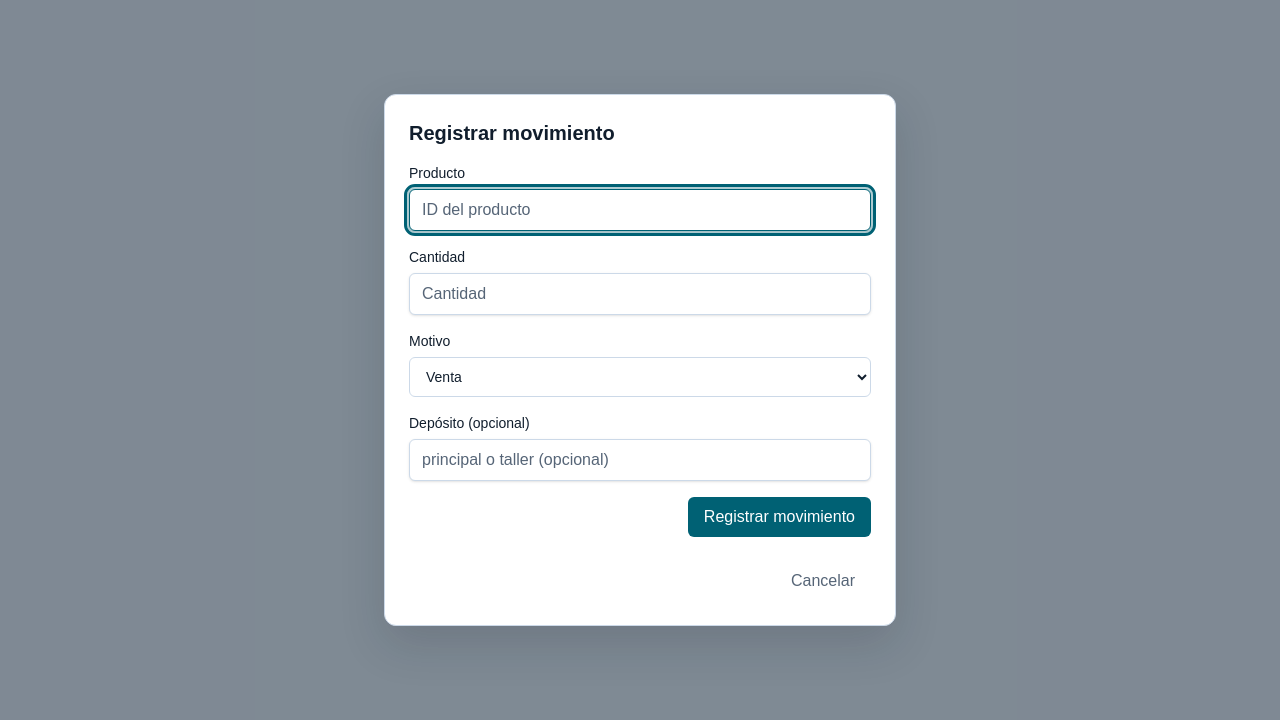
Test: StockMovementModal › validates cantidad with the domain schema before posting
Type "p_1" into the field labelled "Producto" at (640, 210), box [409,189,871,231]
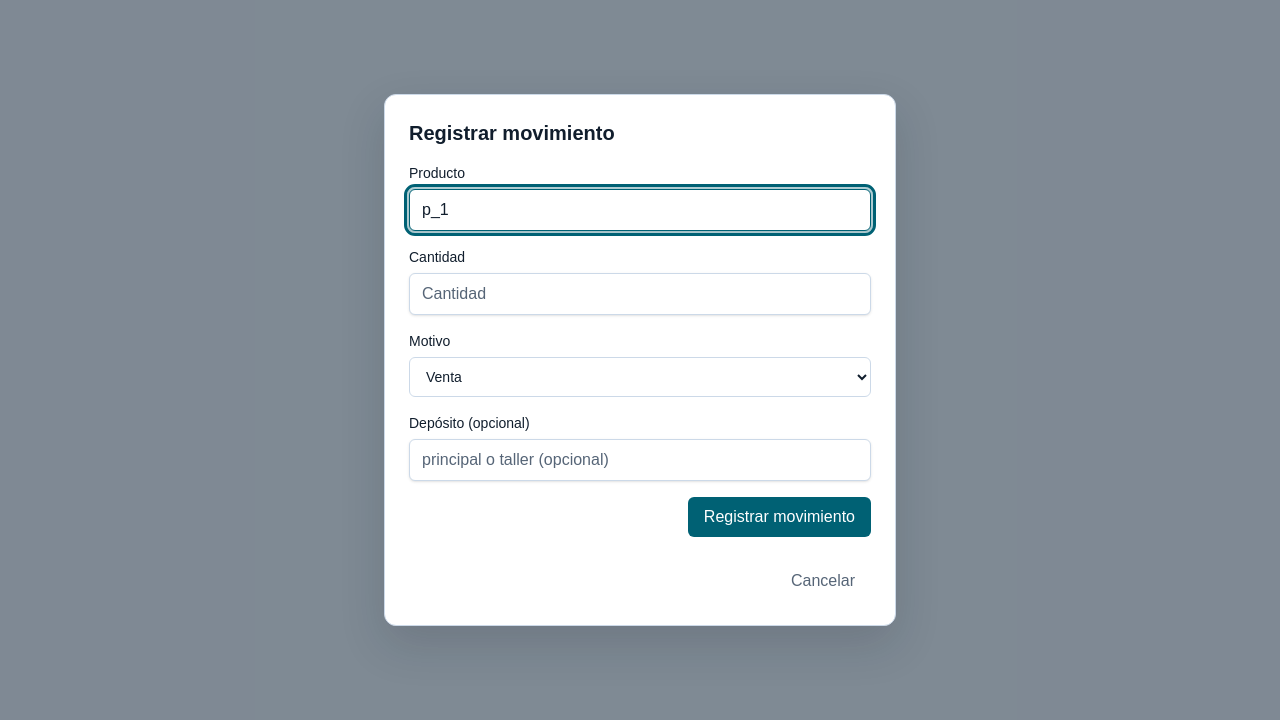
Click the button "Registrar movimiento" at (779, 517), box [688,497,871,537]
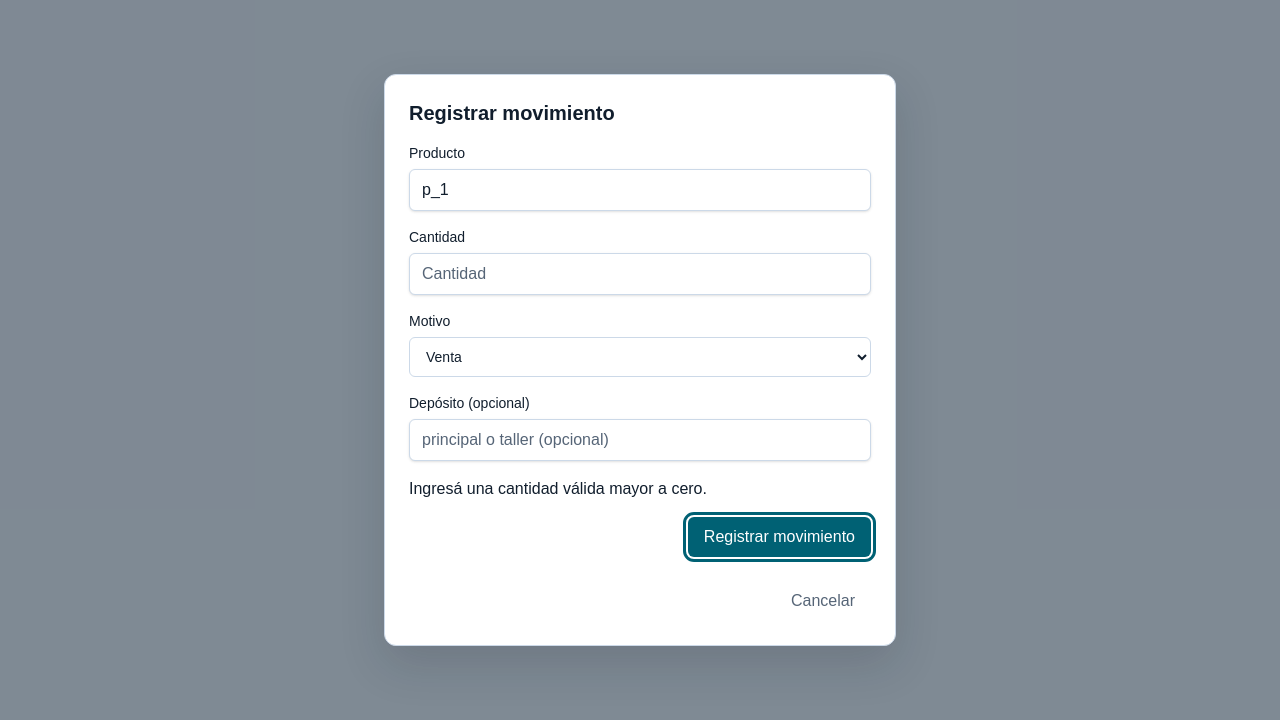
Result: the message "Ingresá una cantidad válida mayor a cero." is shown at [409,480,707,497]
